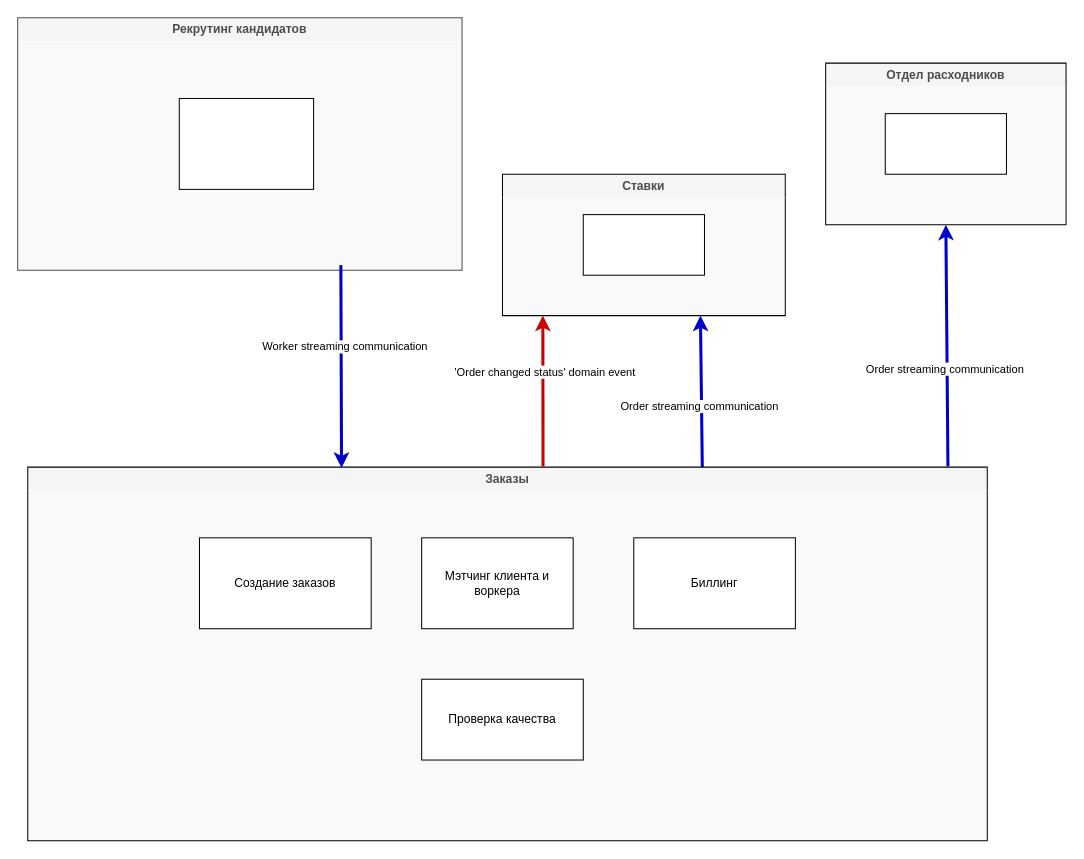
Image size: 1084x859. Some labels were removed from this diagram. The shapes that lost their labels are listed below. From the top down, each one's centre as x and y in pixels, then its label:
the point at 246,143: HR
the point at 945,143: Подбор расходников
the point at 643,244: Проведение ставок
